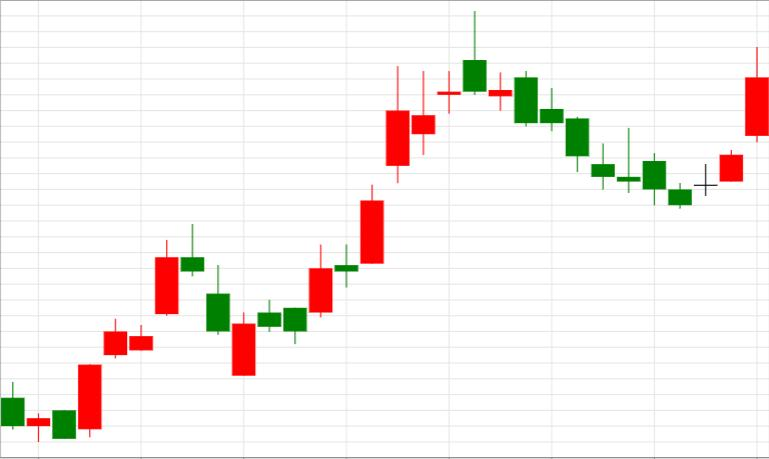shooting_star_fall: (309, 11, 486, 318)
